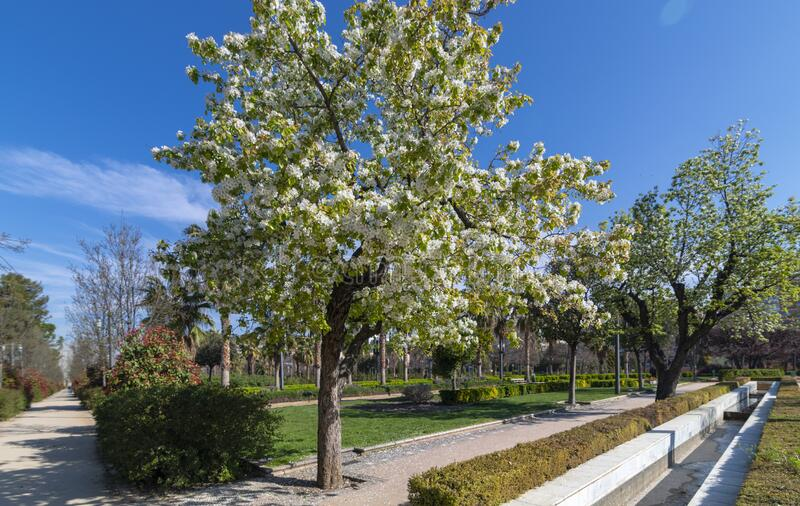tree: (149, 1, 616, 493), (597, 115, 800, 405)
